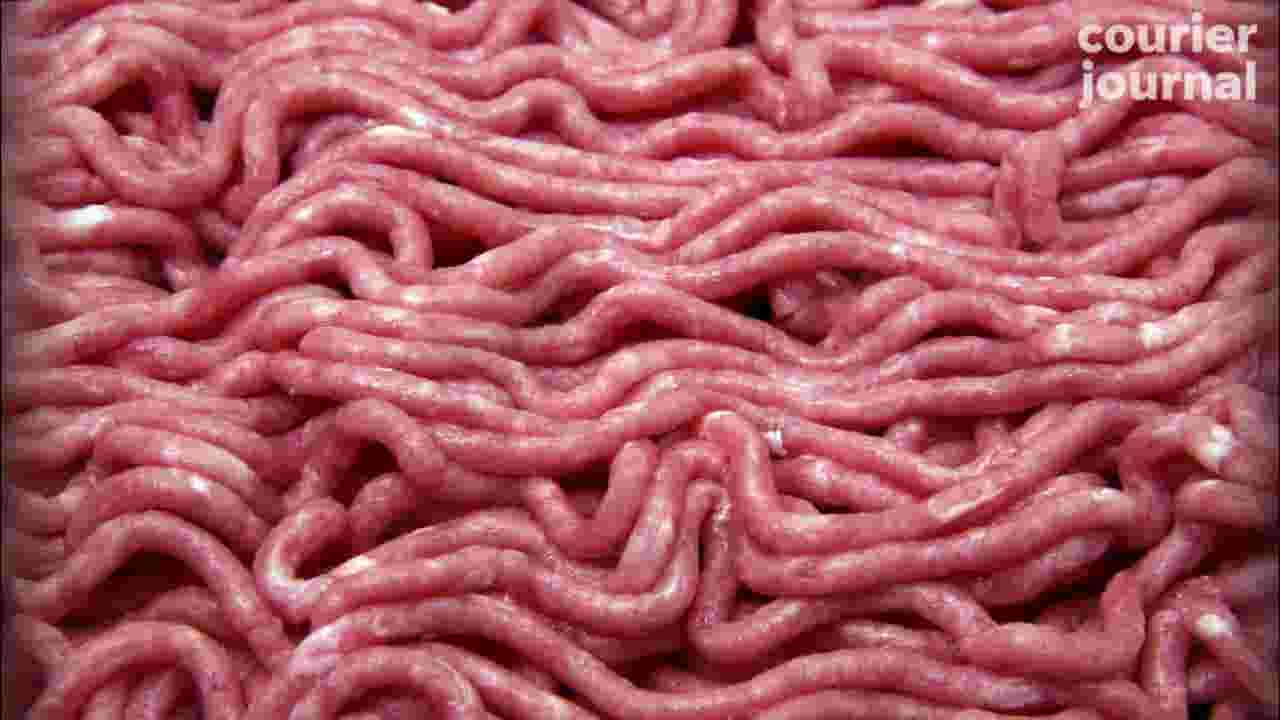ground_beef: (58, 7, 1200, 720)
